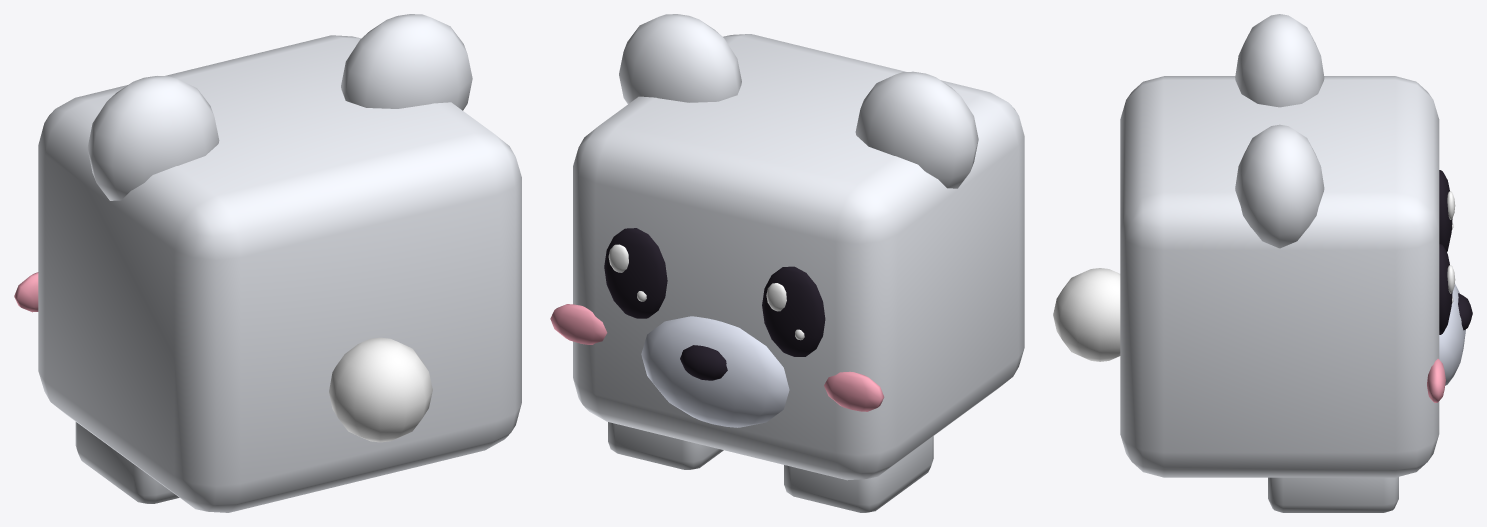
Rendered from pet_polarbear.fbx.
The picture shows the model from 3 angles, left to right: view 1: azimuth 30°, elevation 25°; view 2: azimuth 150°, elevation 25°; view 3: azimuth 270°, elevation 25°; orthographic projection. The views are drawn at different scales.
Visible parts, largest first — view 1: pet_polarbear; view 2: pet_polarbear; view 3: pet_polarbear.
Part boxes in pixels (bbox=[...]): pet_polarbear: bbox=[14, 14, 521, 512]; pet_polarbear: bbox=[550, 14, 1024, 512]; pet_polarbear: bbox=[1053, 14, 1472, 512].
Size of the model in its own units: 2.32 by 2.5 by 2.5.
1 material, 1 textured.
